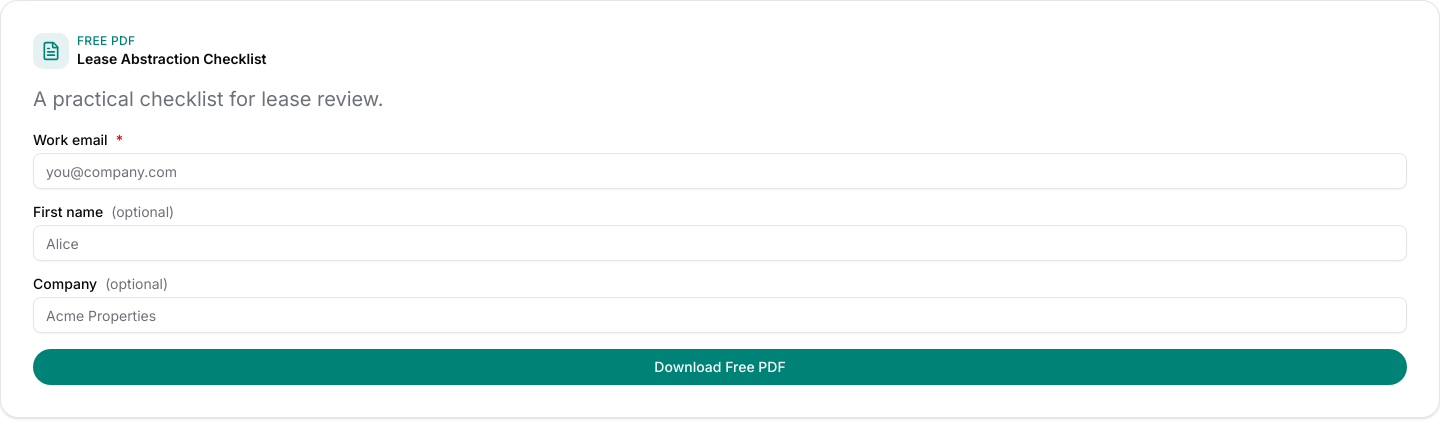
Scenario: LeadMagnetGate › keeps spam and sequence copy out of the success state
Type "tenant@example.com" into the field labelled "Work email *" at (720, 171), box [33,153,1407,189]
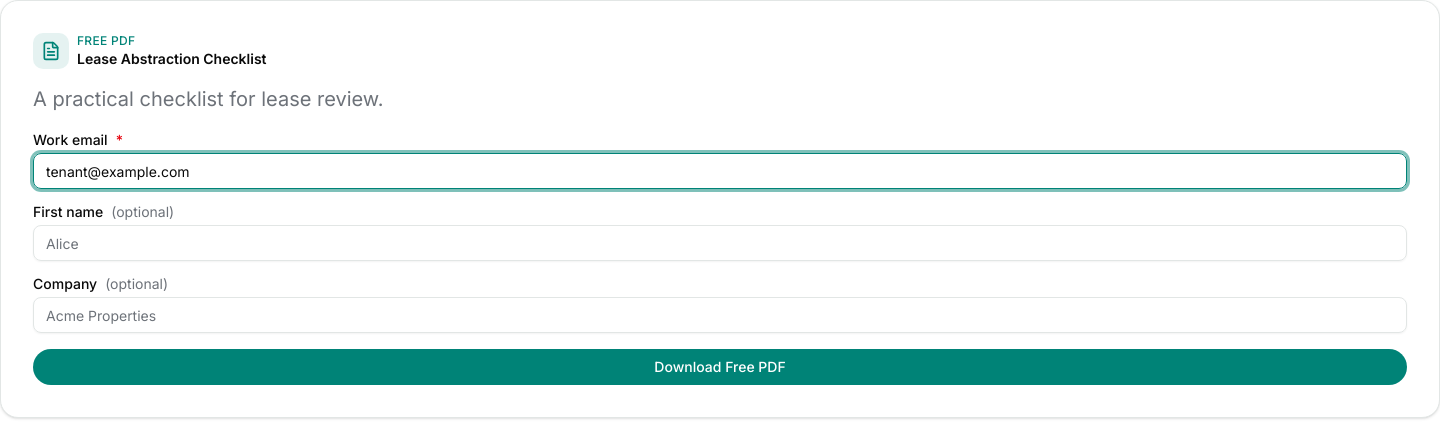
Click the button "Download Free PDF" at (720, 367), box [33,349,1407,385]
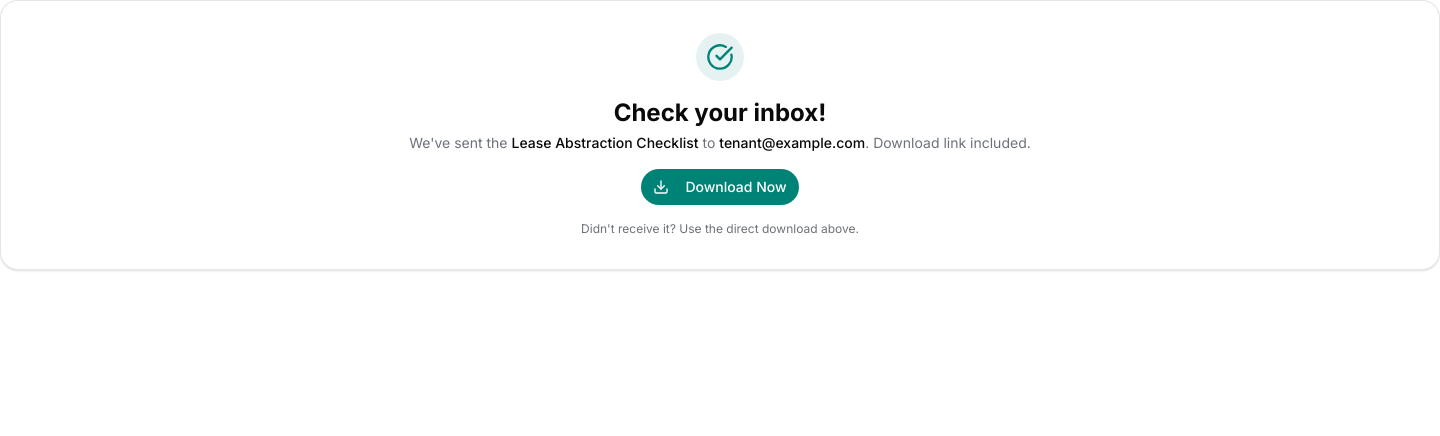
Expected: the heading "Check your inbox!" is shown, [614,98,826,127]
